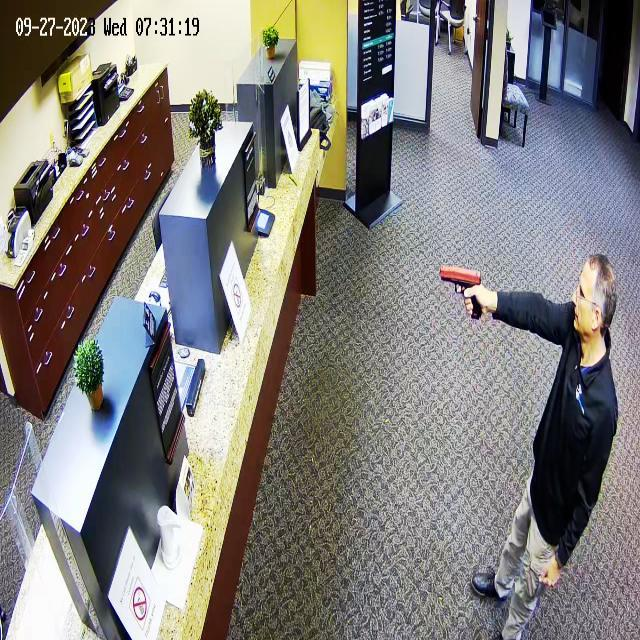Gun: (435, 256, 487, 326)
